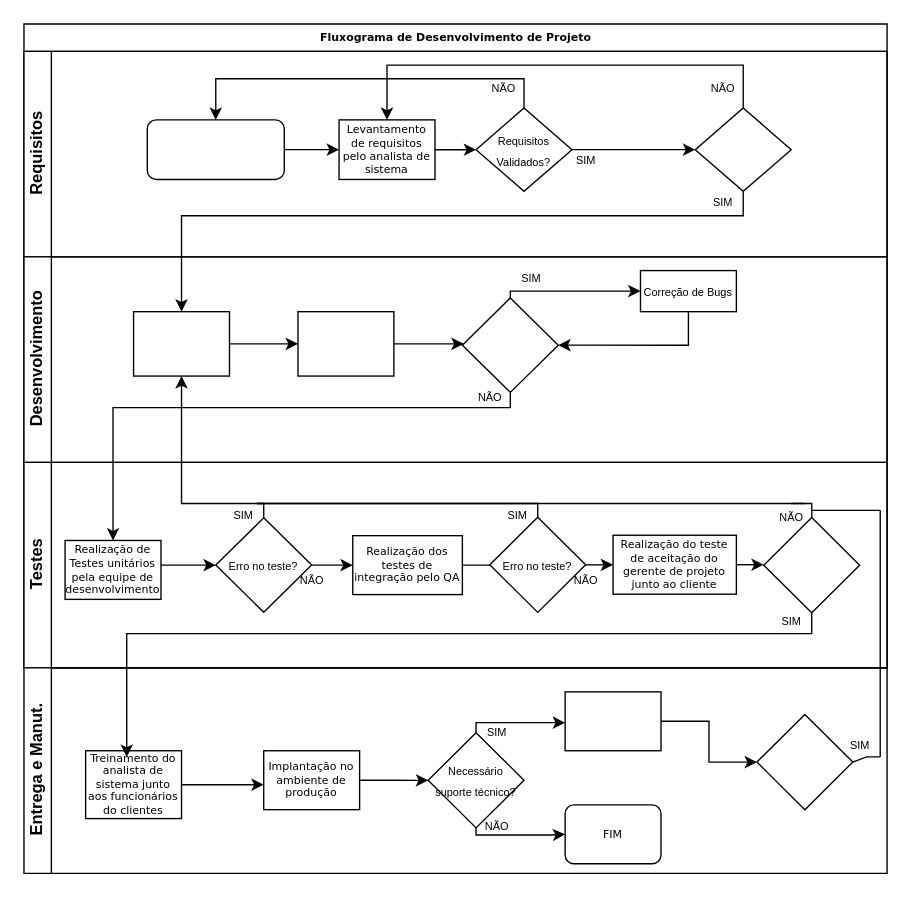
The diagram is 911 pixels wide and 897 high, and some of its shapes have lost their labels. Here are the shapes that lost their labels. From the top down, the centre of each, then its label:
the point at 215,149: Reunião inicial com o cliente
the point at 742,149: Tecnologias Aprovadas pela Gerente de projeto ?
the point at 180,343: Codificação dos módulos pela equipe de desenvolvimento
the point at 345,343: Versionamento do código
the point at 509,344: Necessitou de revisão?
the point at 811,564: Projeto aprovado?
the point at 612,720: Oferecimento de Suporte técnico
the point at 804,761: Melhoria ou bug?
